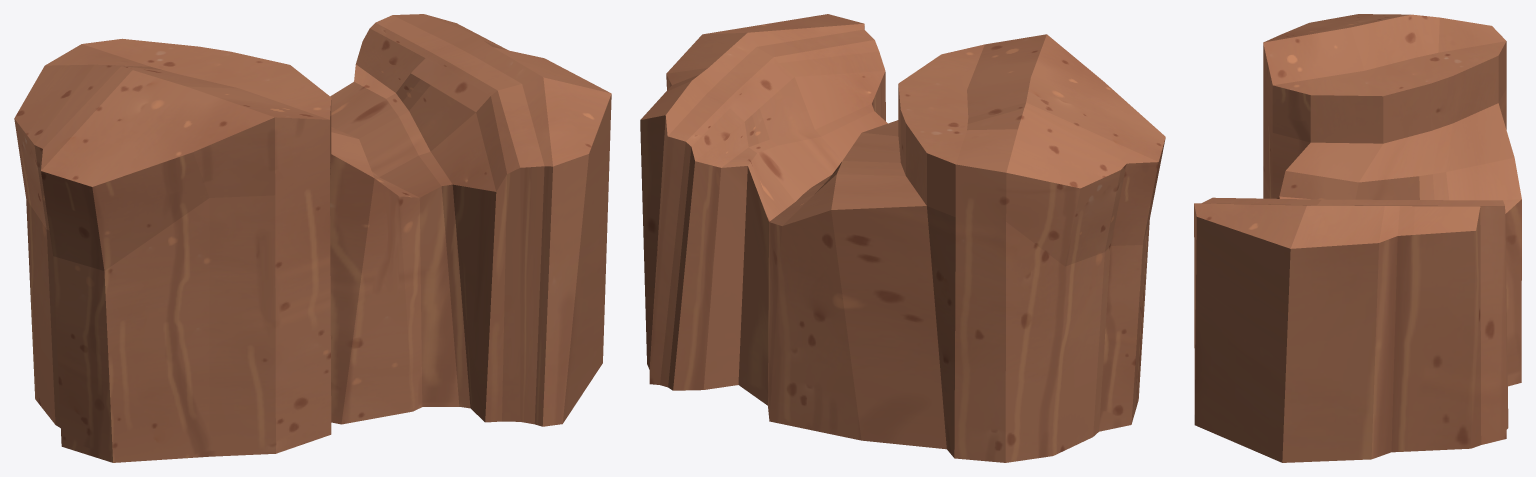
File: big_rock02.fbx
3 views of the same model, side by side, from view 1: azimuth 30°, elevation 25°; view 2: azimuth 150°, elevation 25°; view 3: azimuth 270°, elevation 25° (orthographic). The views are drawn at different scales.
Visible parts, largest first — view 1: big_rock02; view 2: big_rock02; view 3: big_rock02.
Boxes of the visible parts, x1=… form: big_rock02: x1=14, y1=14, x2=611, y2=462; big_rock02: x1=640, y1=14, x2=1165, y2=462; big_rock02: x1=1194, y1=14, x2=1521, y2=462.
Bounding box in the file's own units: 2.87 × 1.84 × 1.75.
